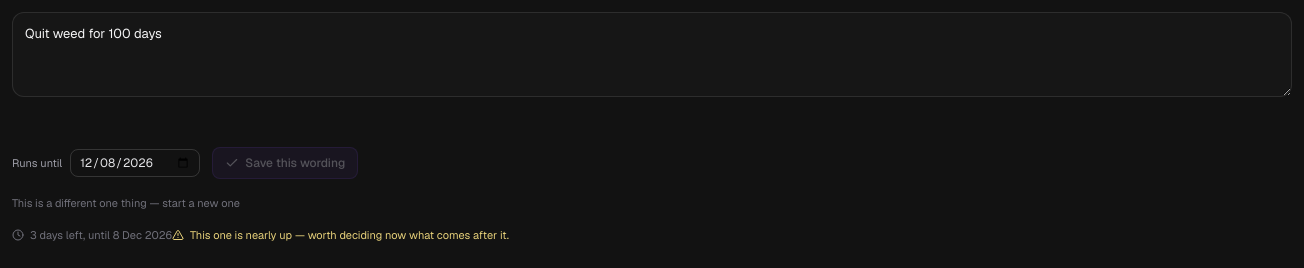
Test case: amending, extending and starting are three different acts › does not hand a new one thing the deadline of the one it replaces
Replace the text in the text box with "Bench 100 kg" at (652, 55), box [12,12,1292,97]
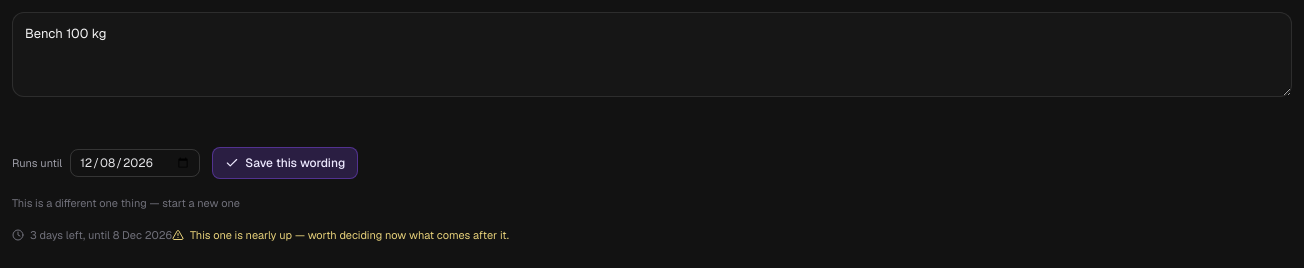
Click the button with test id "one-thing-new" at (126, 204), box [12,195,240,212]
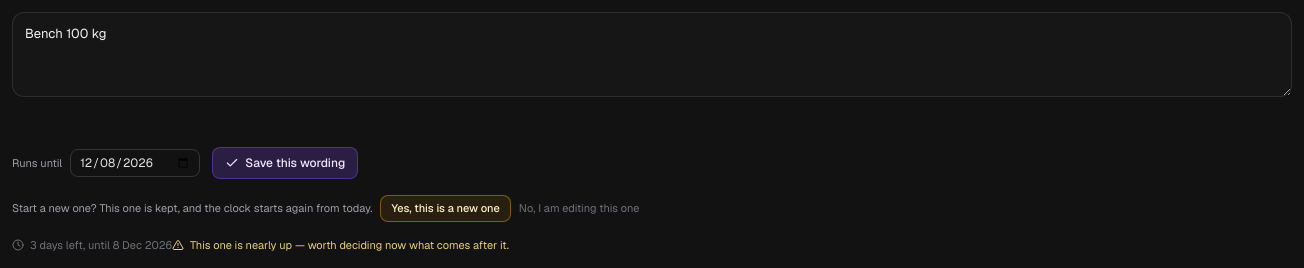
Click the button with test id "one-thing-start-new" at (446, 209), box [380,195,511,222]
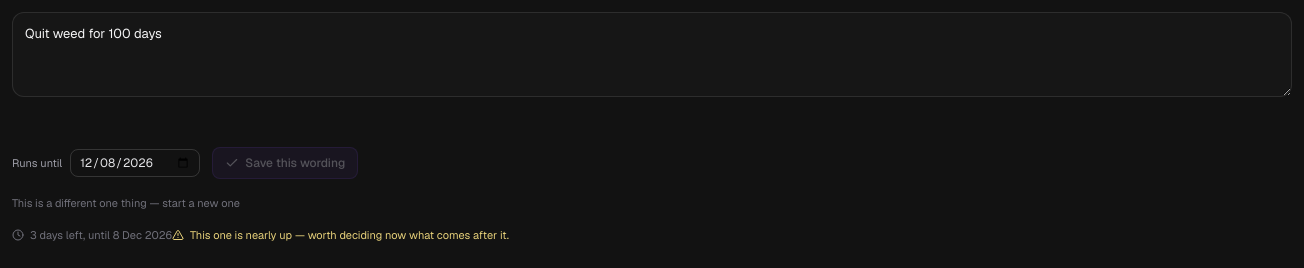
Expected: the button with test id "one-thing-new" is shown, [12,195,240,212]
